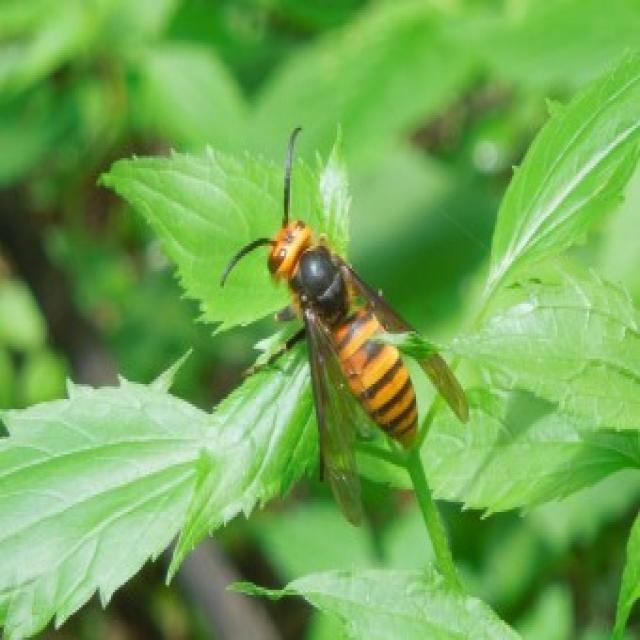Wasp: (262, 210, 435, 463)
